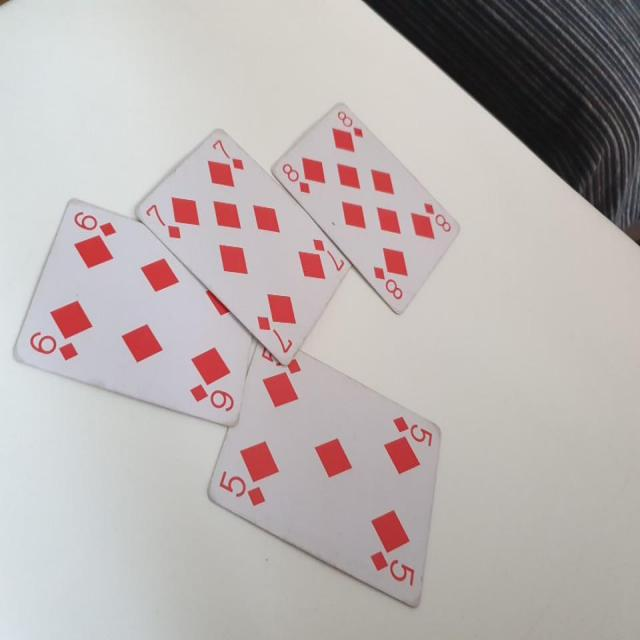5 Diamonds: (205, 337, 440, 614)
6 Diamonds: (9, 195, 258, 426)
7 Diamonds: (134, 128, 352, 365)
8 Diamonds: (269, 100, 462, 316)
